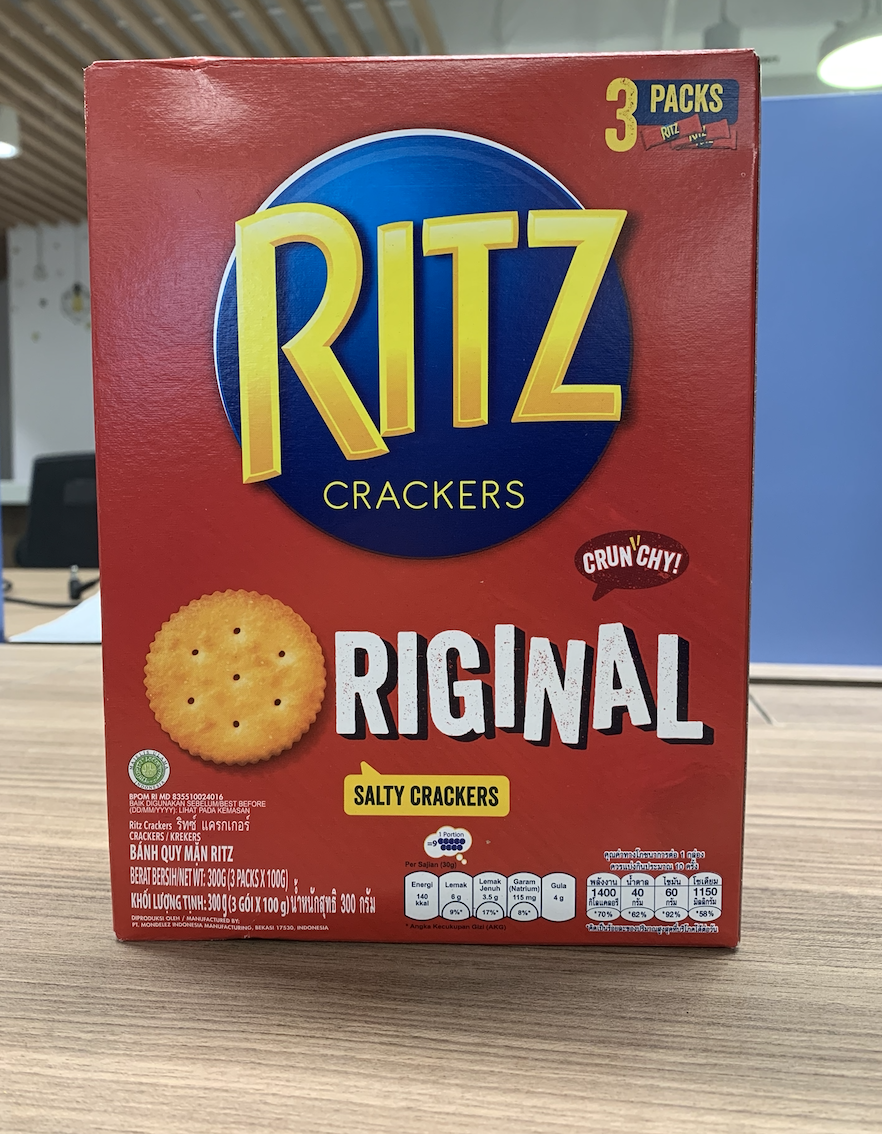crackers_450g: (112, 68, 738, 936)
